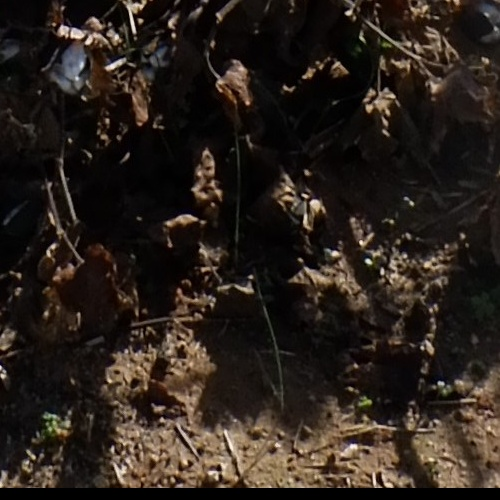mature_boll: (32, 17, 125, 136)
